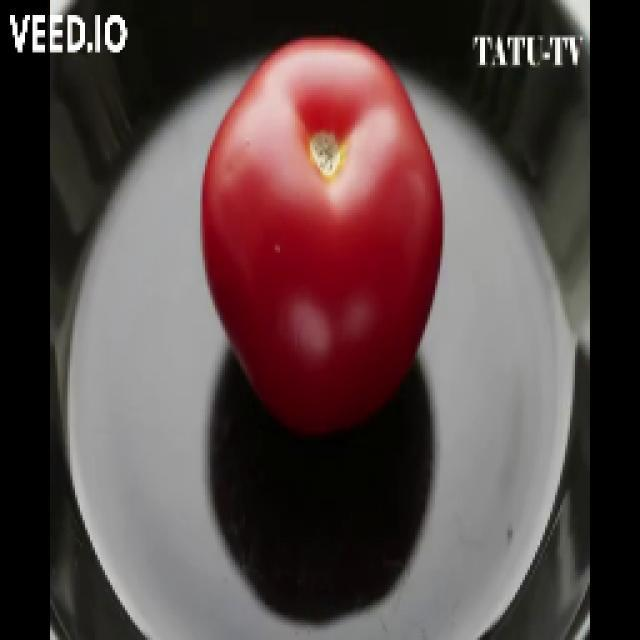ripe tomato: (202, 22, 453, 449)
